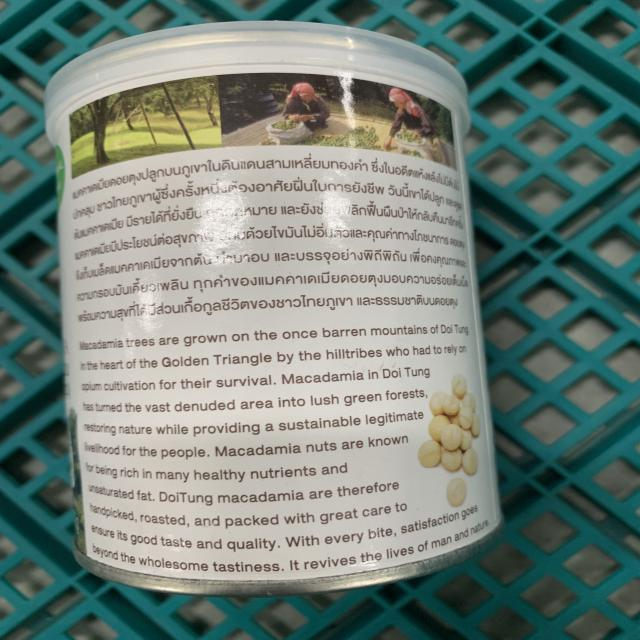object_name: (46, 48, 508, 565)
